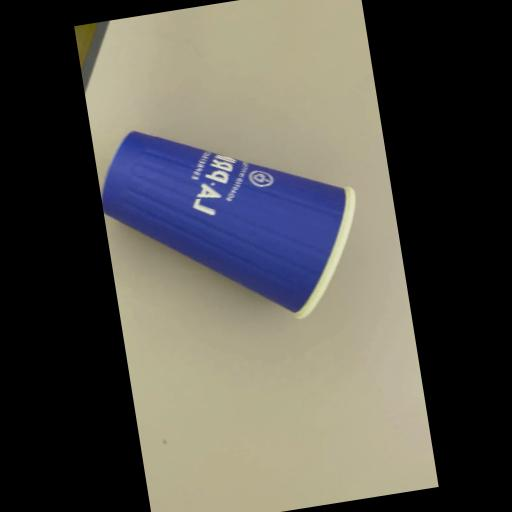lp_paper_cup: (91, 94, 378, 348)
